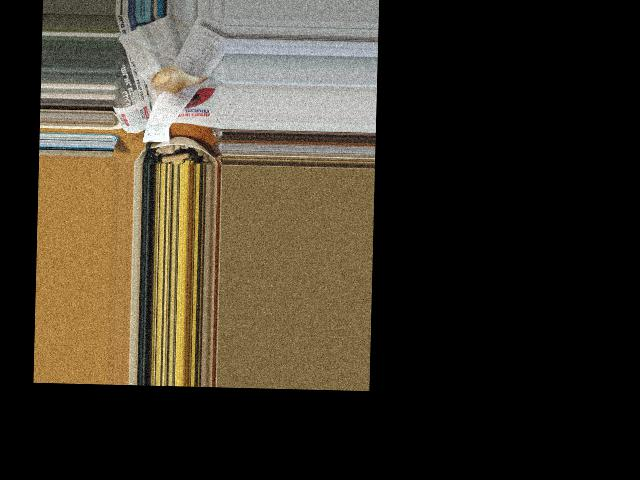onion: (152, 68, 194, 91)
